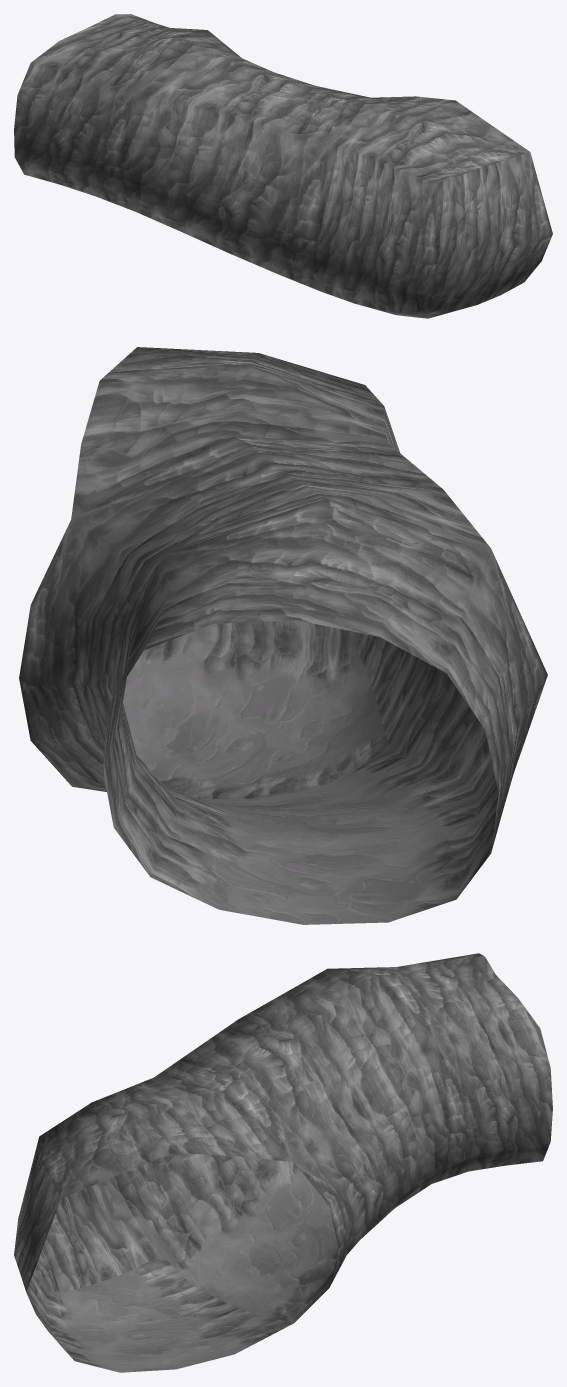
Rendered from SWORDLIGHT20_PS-AREA01_03.fbx.
The picture shows the model from 3 angles, top to bottom: view 1: azimuth 30°, elevation 25°; view 2: azimuth 150°, elevation 25°; view 3: azimuth 270°, elevation 25°; orthographic projection. The views are drawn at different scales.
Visible parts, largest first — view 1: SWORDLIGHT20_PS-AREA01_03; view 2: SWORDLIGHT20_PS-AREA01_03; view 3: SWORDLIGHT20_PS-AREA01_03.
Boxes of the visible parts, left/top/right/bottom form: SWORDLIGHT20_PS-AREA01_03: left=14, top=14, right=552, bottom=318; SWORDLIGHT20_PS-AREA01_03: left=19, top=347, right=547, bottom=924; SWORDLIGHT20_PS-AREA01_03: left=14, top=953, right=552, bottom=1372.
Bounding box in the file's own units: 172524 × 106577 × 186289.
Materials: 3 (3 with a texture image).
